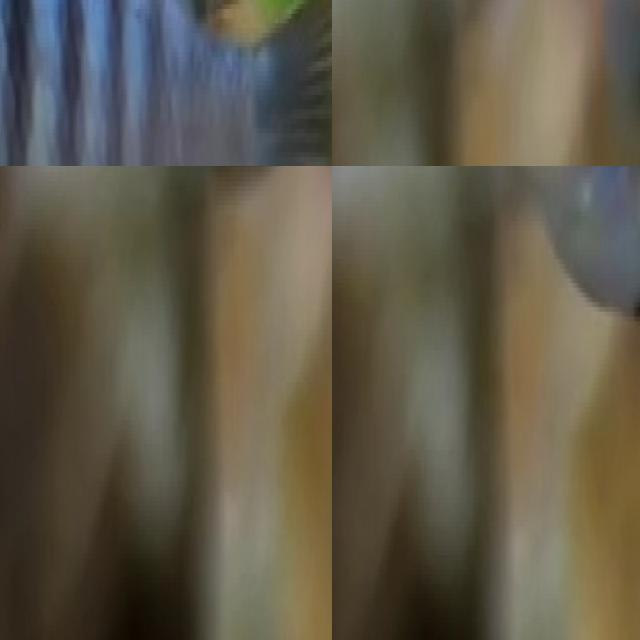fish: (422, 166, 640, 431), (0, 0, 332, 166)
